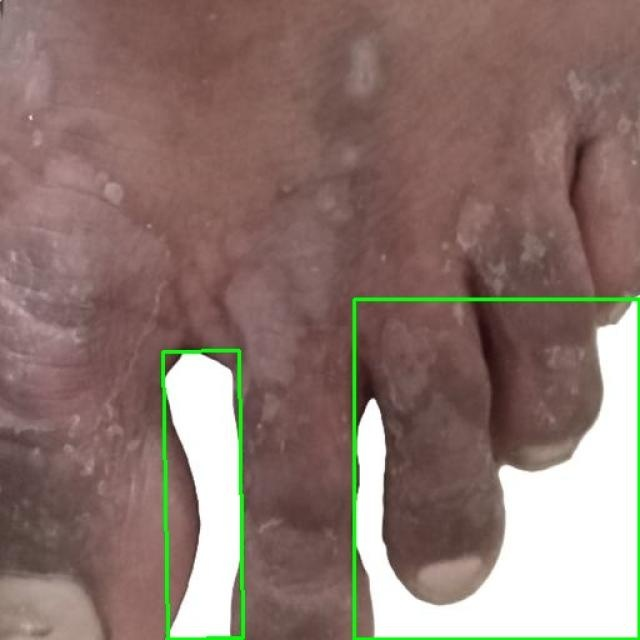Eczema: (354, 299, 639, 639), (163, 350, 243, 640)
